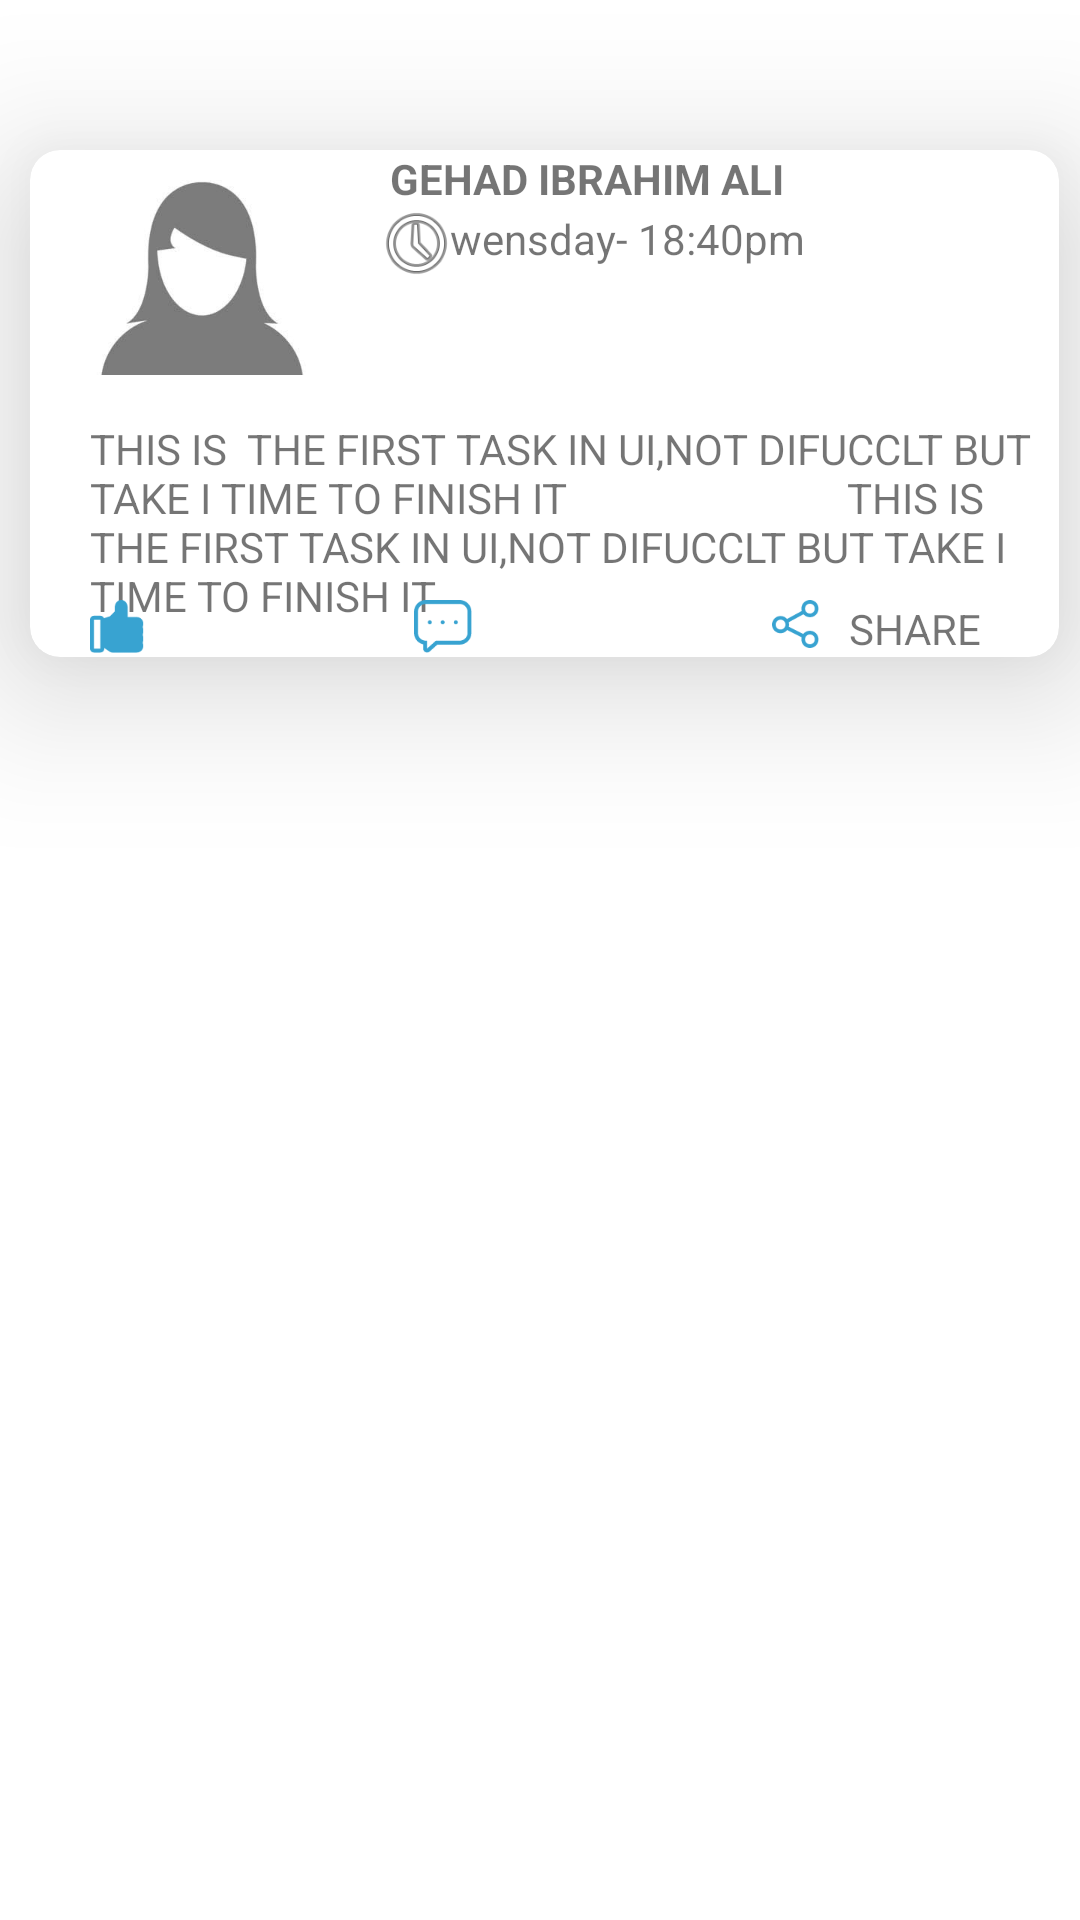

Named icons in this screenshot (1080w x 1920h) and their bounding boxes, Rect(x1, y1, x2, y2):
comm: Rect(414, 600, 472, 653)
like: Rect(90, 600, 144, 653)
person: Rect(101, 182, 303, 375)
recent history: Rect(386, 213, 447, 274)
sare: Rect(772, 600, 819, 648)
